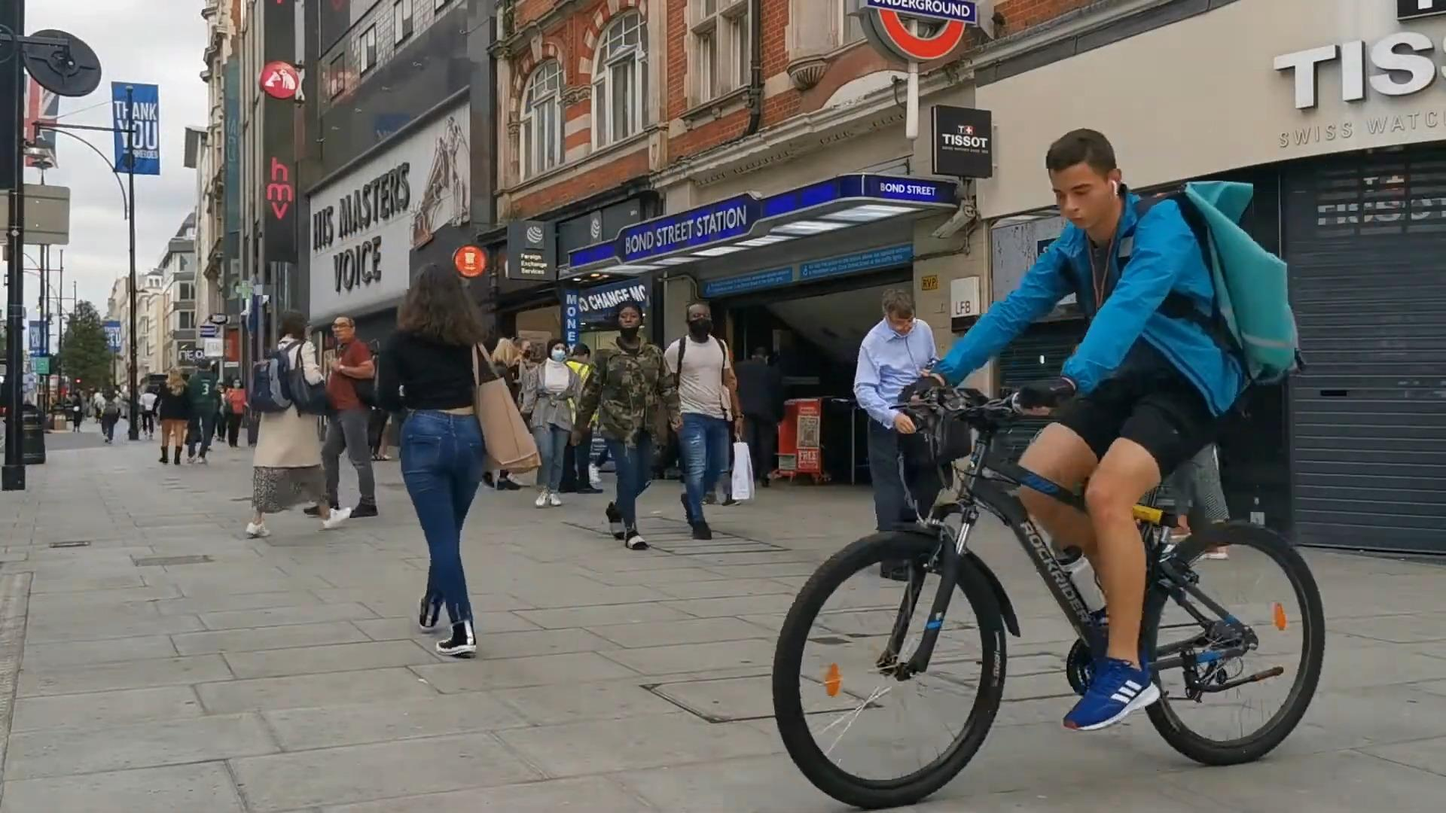no-helmet: (1045, 128, 1122, 230), (399, 262, 482, 334), (881, 288, 918, 336), (685, 301, 713, 338), (277, 309, 307, 342), (617, 302, 644, 337), (331, 315, 358, 343), (547, 338, 567, 362), (510, 337, 531, 359), (571, 343, 590, 364), (167, 366, 183, 386), (197, 358, 211, 372), (230, 376, 244, 389)
